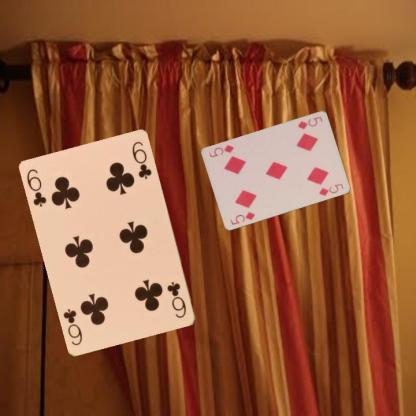5d: (228, 208, 257, 226), (295, 114, 324, 130)
6c: (24, 166, 48, 209), (164, 279, 188, 320)
